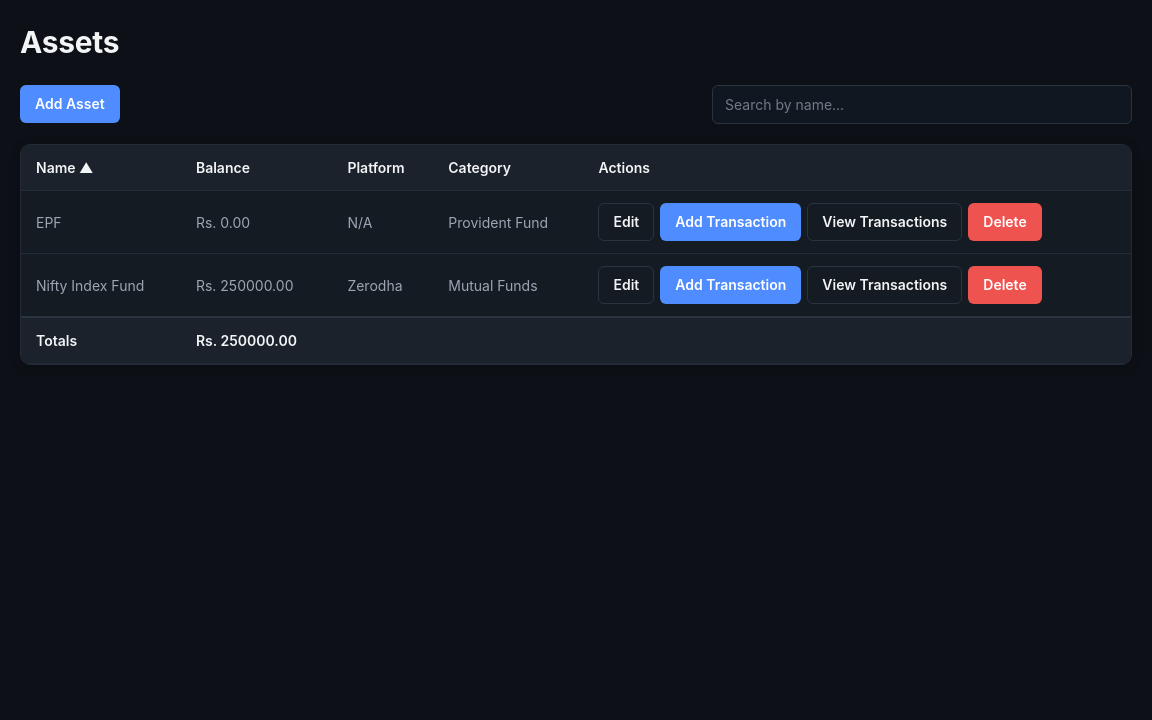
Scenario: Assets page › creating and editing assets › creates an asset with trimmed name, platform and category
This screenshot has width=1152, height=720.
Expected: the heading "Assets" is shown, [20,24,119,60]
Expected: the cell "Nifty Index Fund" is shown, [21,254,181,317]
Click the button "Add Asset": (70,104) [20,85,120,123]
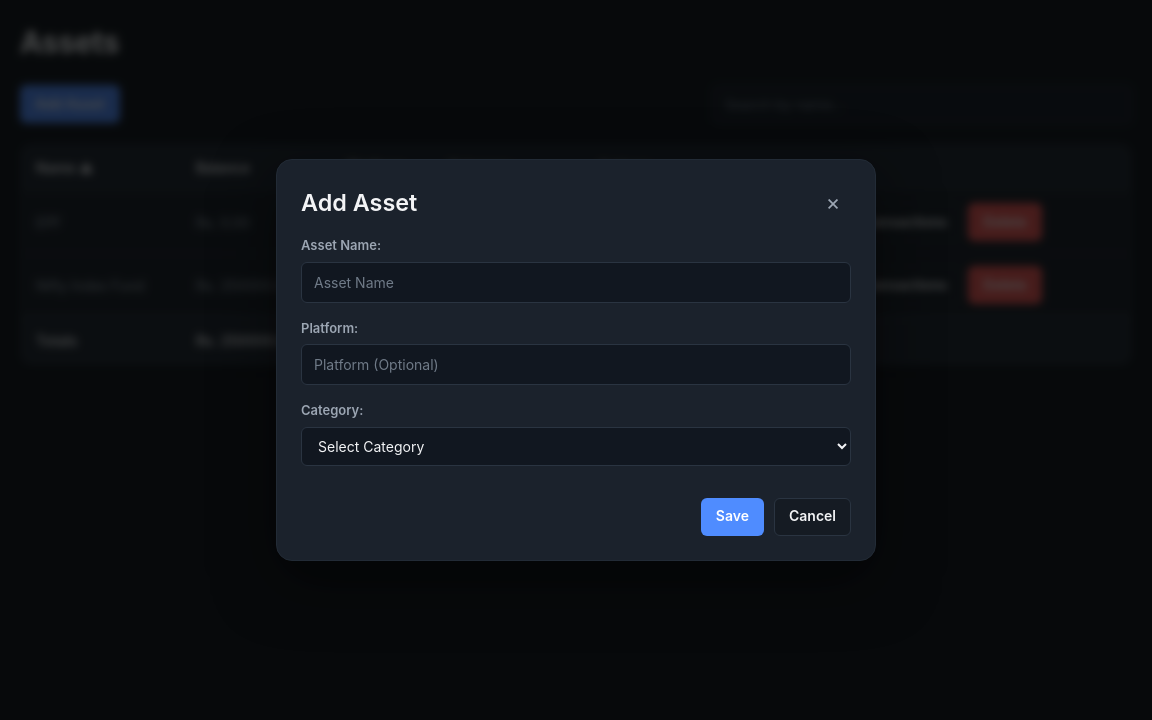
In the field labelled "Asset Name:": (576,282) [301,262,851,303], type "  Gold ETF "
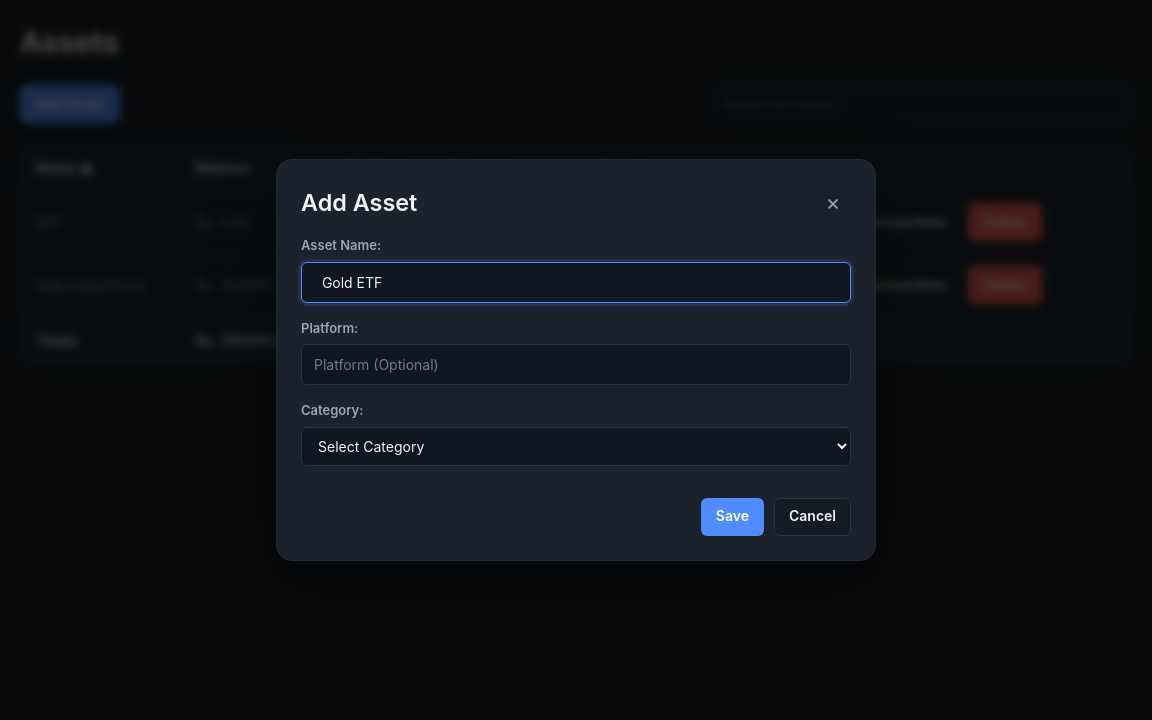
In the field labelled "Platform:": (576,365) [301,344,851,385], type "Groww"
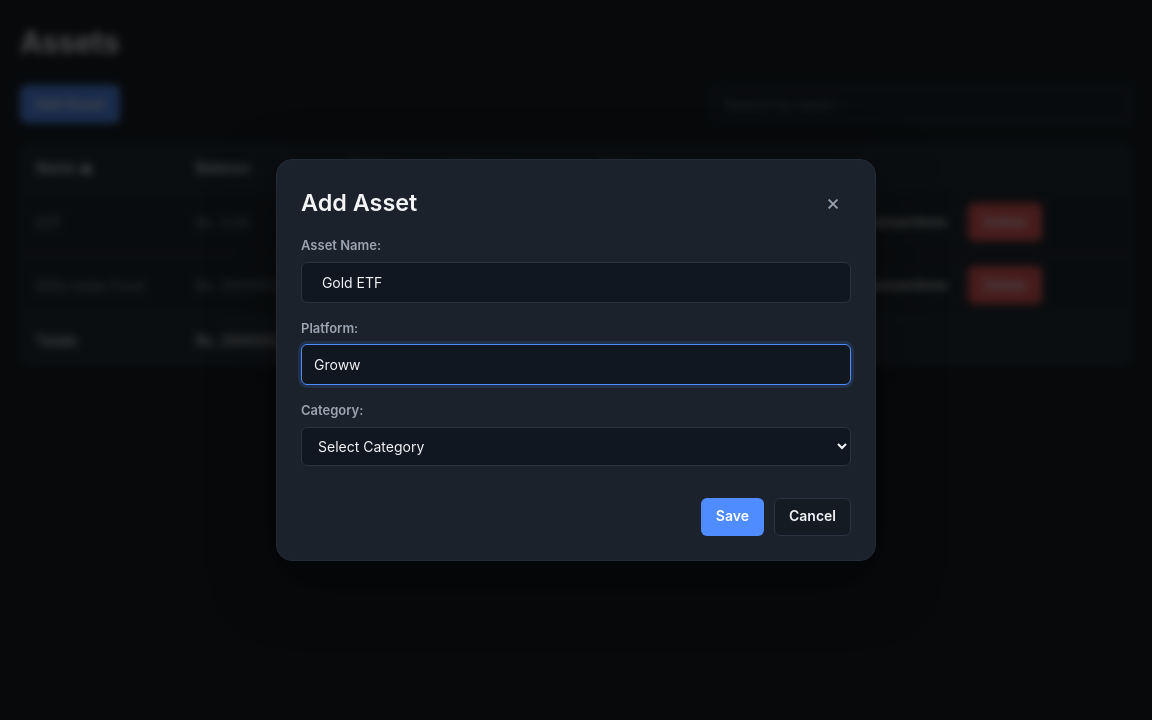
Select "ETF" in the dropdown labelled "Category:": (576,446) [301,427,851,466]
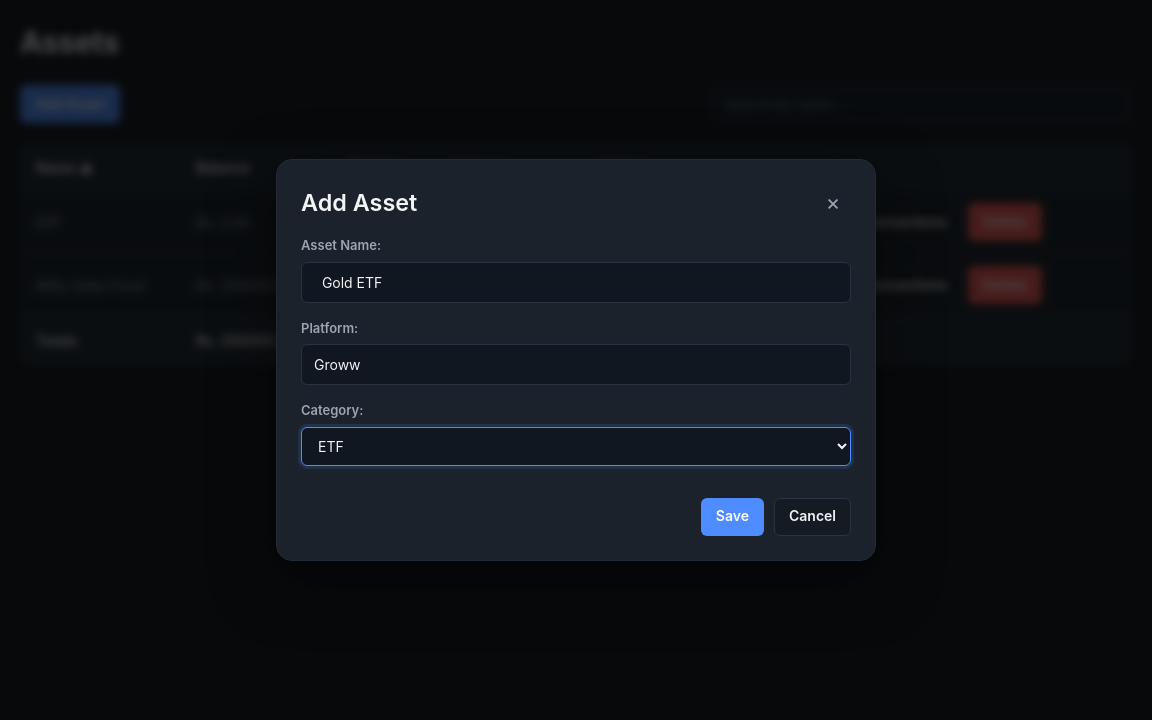
Click the button "Save": (732,517) [701,498,764,536]
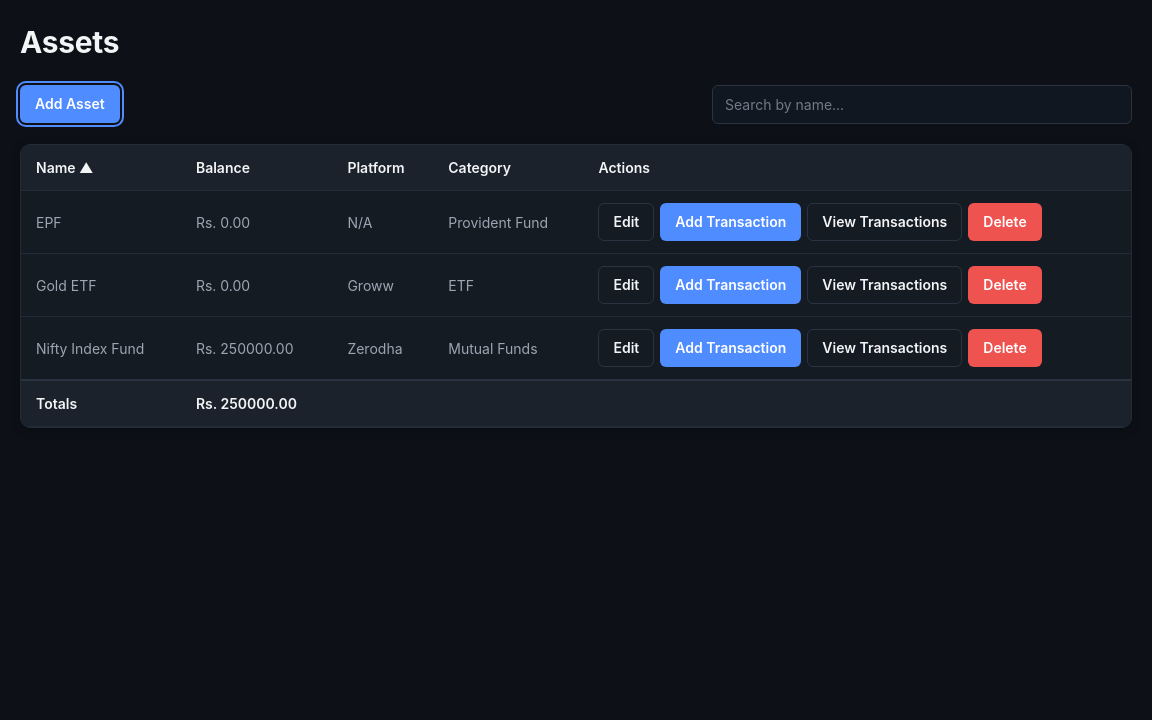
Result: the cell "Gold ETF" is shown at [21,254,181,317]
